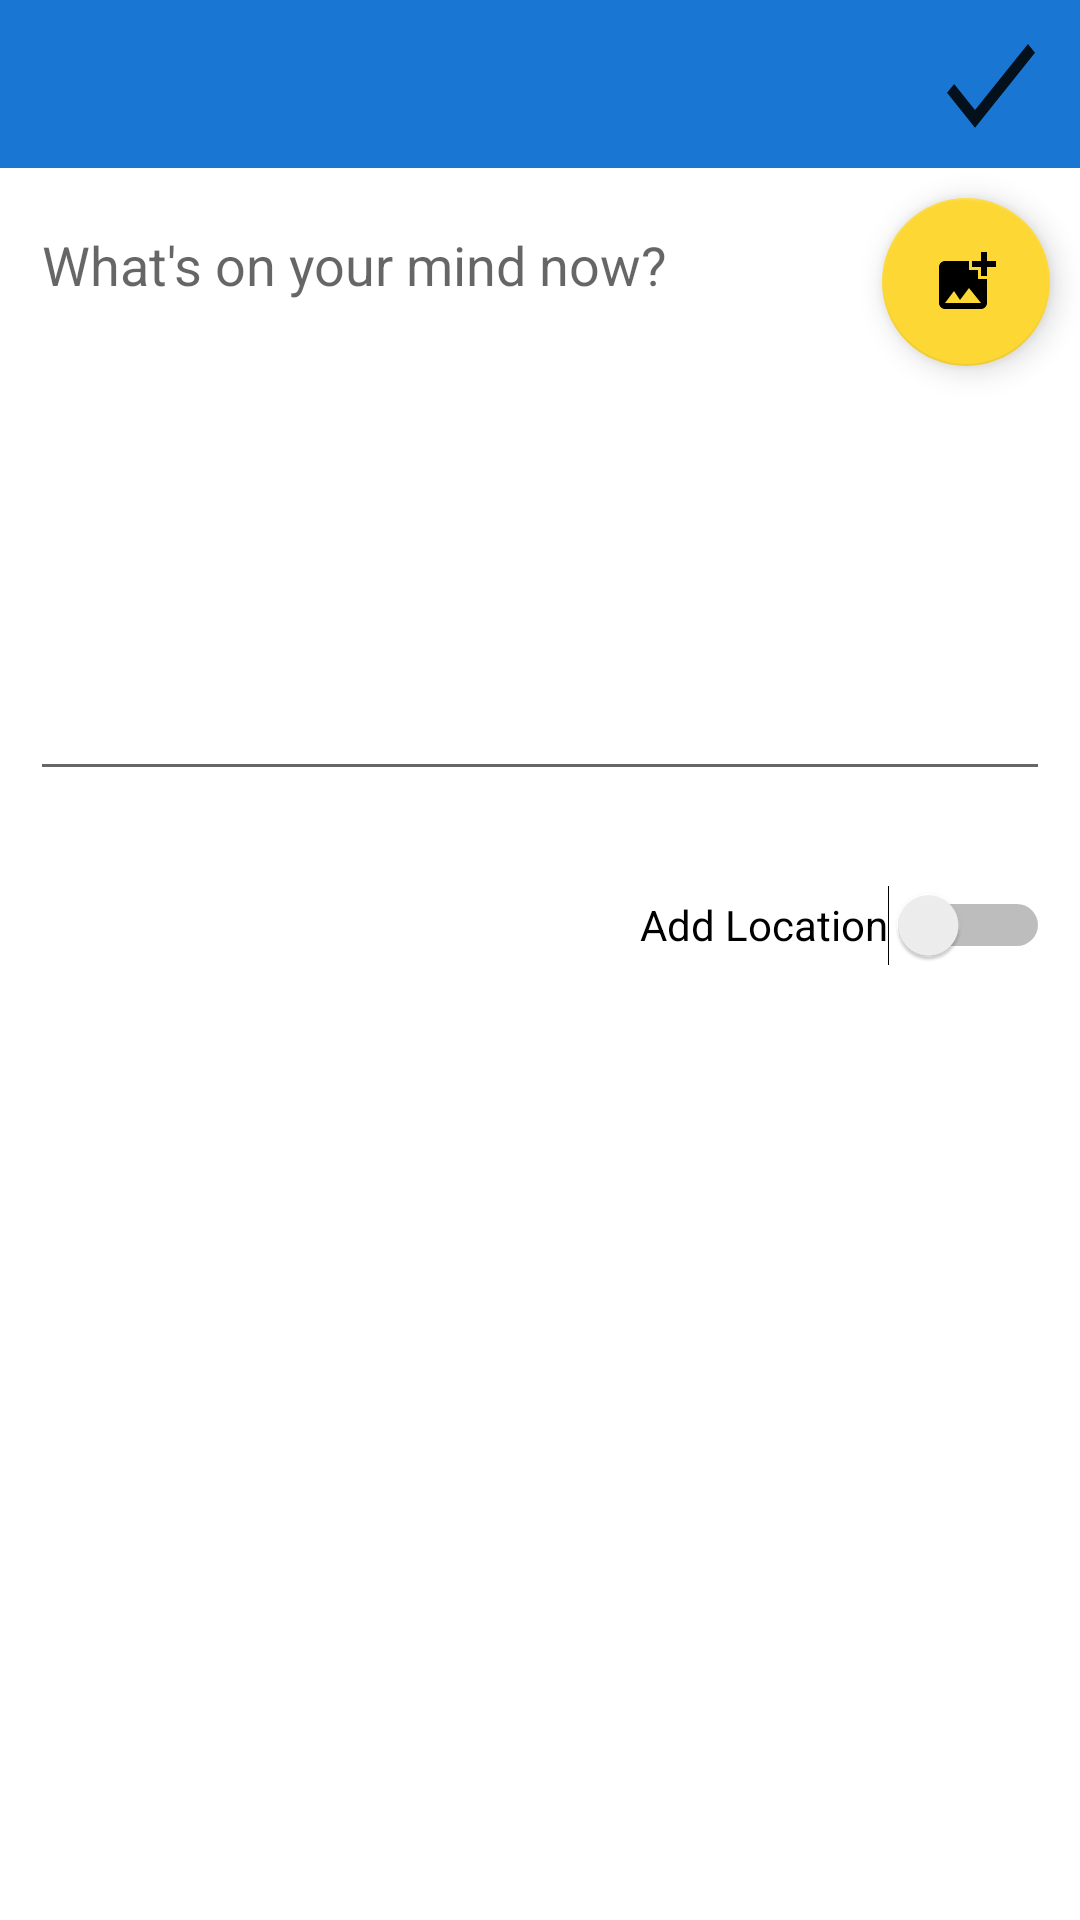

Named icons in this screenshot (1080×1920) and their centers, point (x, y):
add picture: point (966, 282)
check: point (991, 86)
